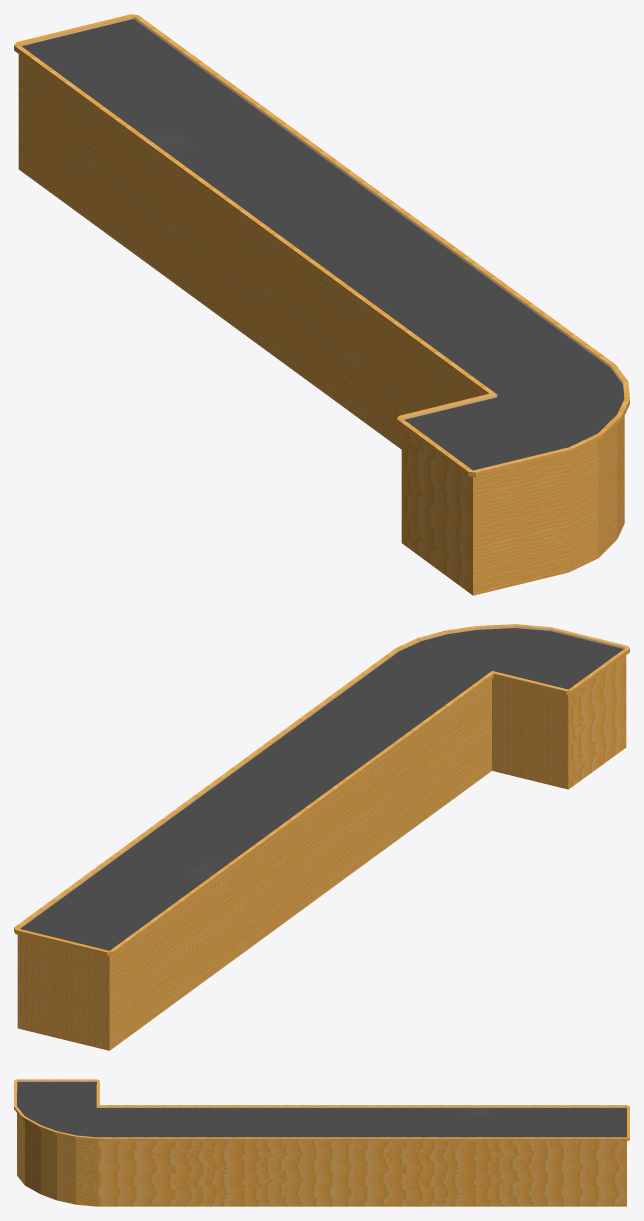
File: BarCounterm.fbx
3 renders of one model, top to bottom at view 1: azimuth 30°, elevation 25°; view 2: azimuth 150°, elevation 25°; view 3: azimuth 270°, elevation 25°, orthographic. The views are drawn at different scales.
Visible parts, largest first — view 1: Cube; view 2: Cube; view 3: Cube.
Part boxes in pixels (left/top/right/bottom): Cube: left=14, top=14, right=629, bottom=595; Cube: left=14, top=624, right=629, bottom=1050; Cube: left=14, top=1079, right=629, bottom=1206.
Bounding box in the file's own units: 1.4 × 0.762 × 6.14.
Materials: 3 (3 with a texture image).
